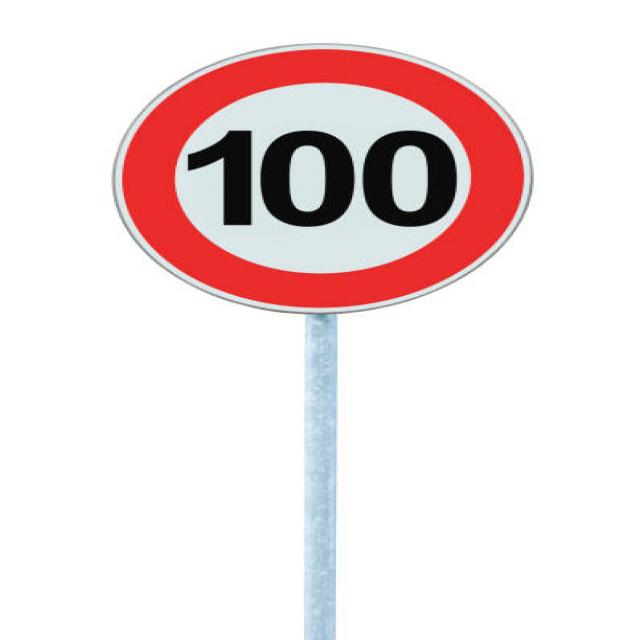speed_limit_100: (107, 37, 543, 321)
